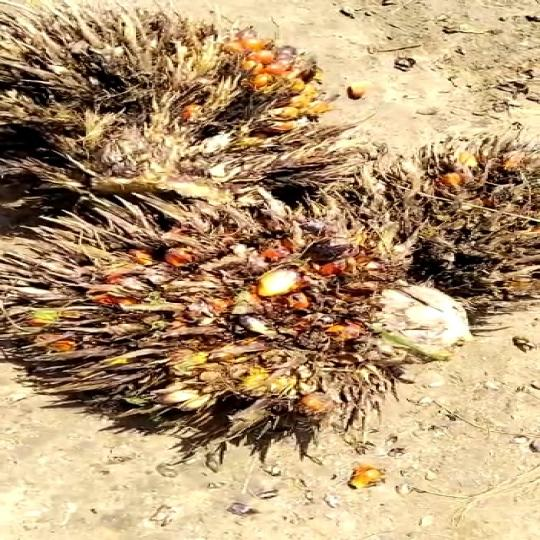terlalu masak: (0, 192, 439, 448), (0, 4, 341, 229)
